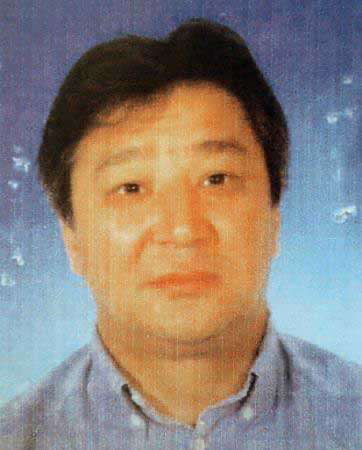Face: (73, 120, 283, 345)
